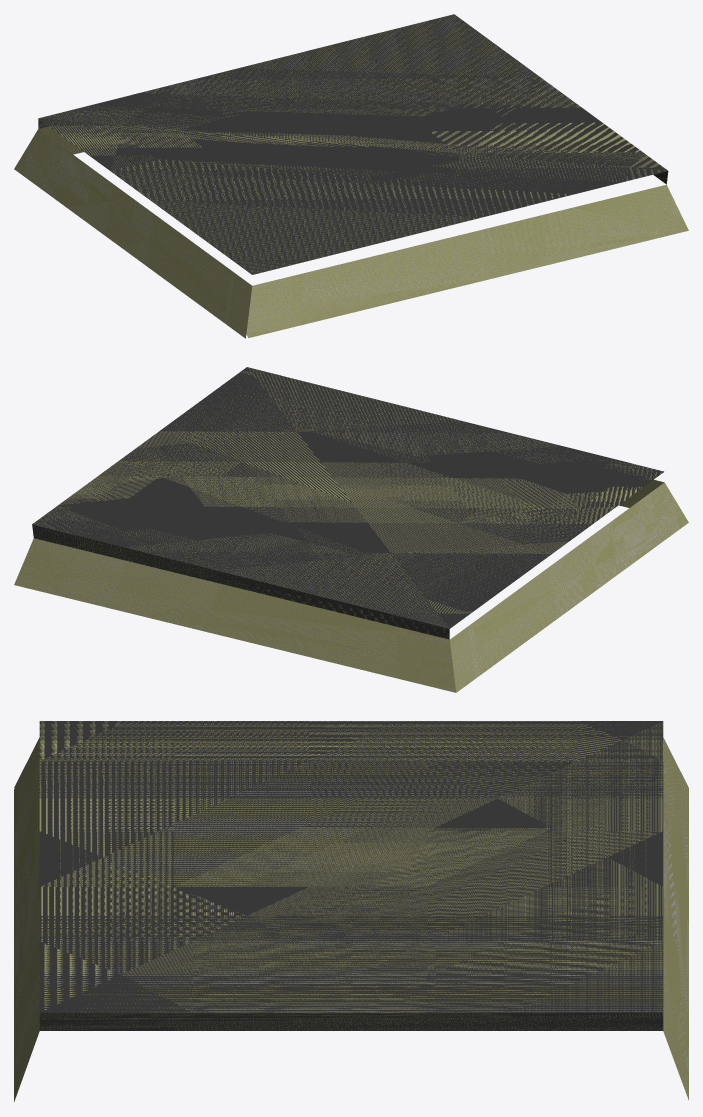
File: original-5.obj
The picture shows the model from 3 angles, top to bottom: view 1: azimuth 30°, elevation 25°; view 2: azimuth 150°, elevation 25°; view 3: azimuth 270°, elevation 25°; orthographic projection. The views are drawn at different scales.
Visible parts, largest first — view 1: tus5/tus/mesh1/mesh1-geometry#mesh1-geometry; view 2: tus5/tus/mesh1/mesh1-geometry#mesh1-geometry; view 3: tus5/tus/mesh1/mesh1-geometry#mesh1-geometry.
Boxes of the visible parts, <box> form: tus5/tus/mesh1/mesh1-geometry#mesh1-geometry: <box>14,14,688,338</box>; tus5/tus/mesh1/mesh1-geometry#mesh1-geometry: <box>14,367,688,692</box>; tus5/tus/mesh1/mesh1-geometry#mesh1-geometry: <box>14,721,688,1101</box>.
Bounding box in the file's own units: 0.0476 × 0.00578 × 0.0432.
